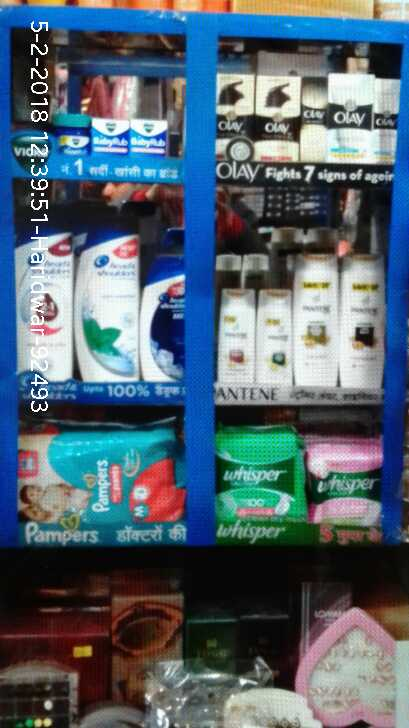vicks: (55, 109, 173, 160)
